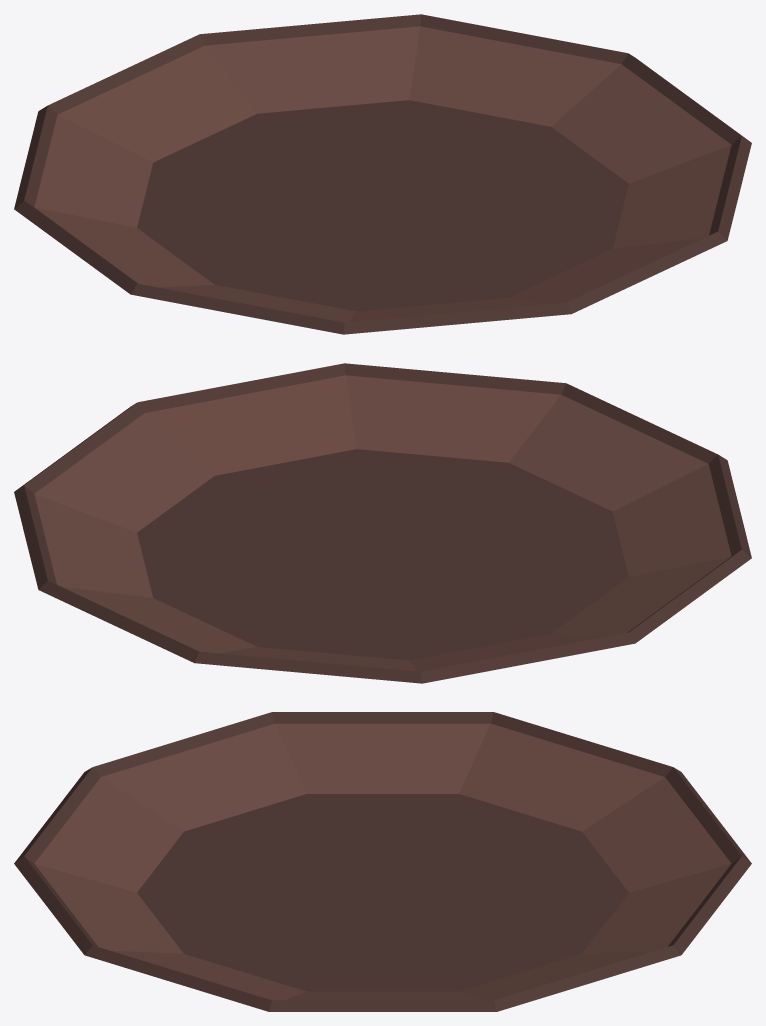
File: Wooden plate.fbx
3 renders of one model, top to bottom at view 1: azimuth 30°, elevation 25°; view 2: azimuth 150°, elevation 25°; view 3: azimuth 270°, elevation 25°, orthographic. The views are drawn at different scales.
Visible parts, largest first — view 1: Cylinder.005; view 2: Cylinder.005; view 3: Cylinder.005.
Boxes of the visible parts, x1,y1,x2,y2 form: Cylinder.005: (14, 14, 751, 334); Cylinder.005: (14, 363, 751, 683); Cylinder.005: (14, 712, 751, 1011).
Size of the model in its own units: 0.754 by 0.0494 by 0.7928.
